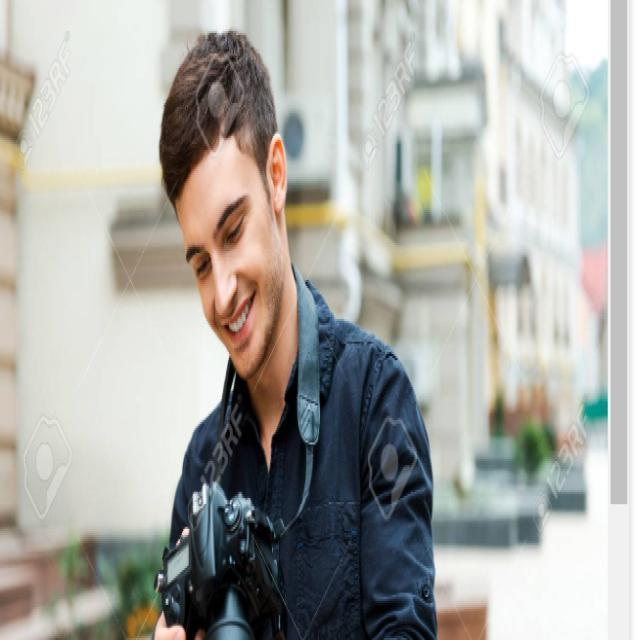face_no_mask: (173, 138, 290, 377)
